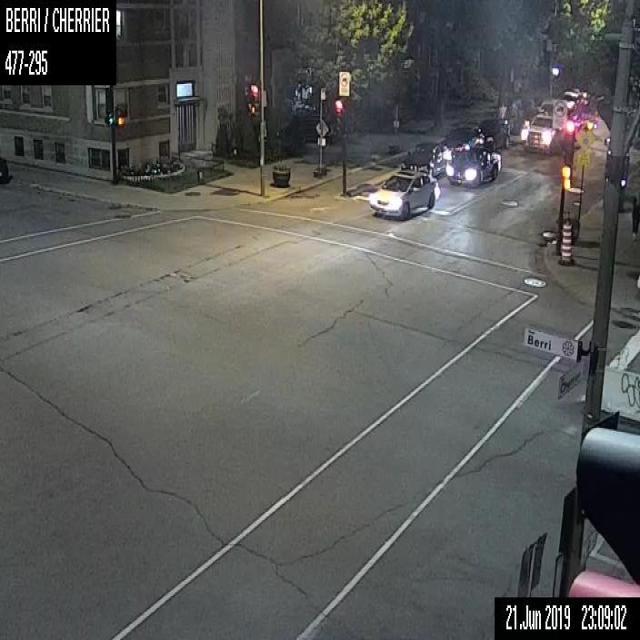construction: (558, 221, 572, 264)
vehicle: (369, 170, 439, 218), (446, 147, 500, 185), (520, 115, 562, 154), (400, 141, 446, 175), (442, 126, 483, 155), (480, 117, 510, 148), (560, 90, 583, 118), (538, 98, 558, 115), (0, 156, 8, 184)
